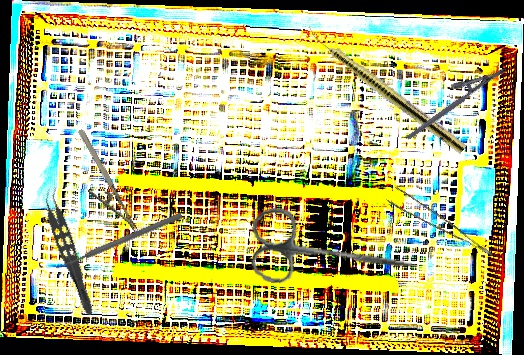Handpiece: (301, 23, 469, 156)
Iris Scissors: (245, 204, 424, 302)
Needle Holder: (396, 53, 509, 141), (61, 127, 140, 245)
Pusher: (54, 210, 184, 273)
Tissue Forceps: (385, 181, 494, 273), (36, 185, 106, 318)
